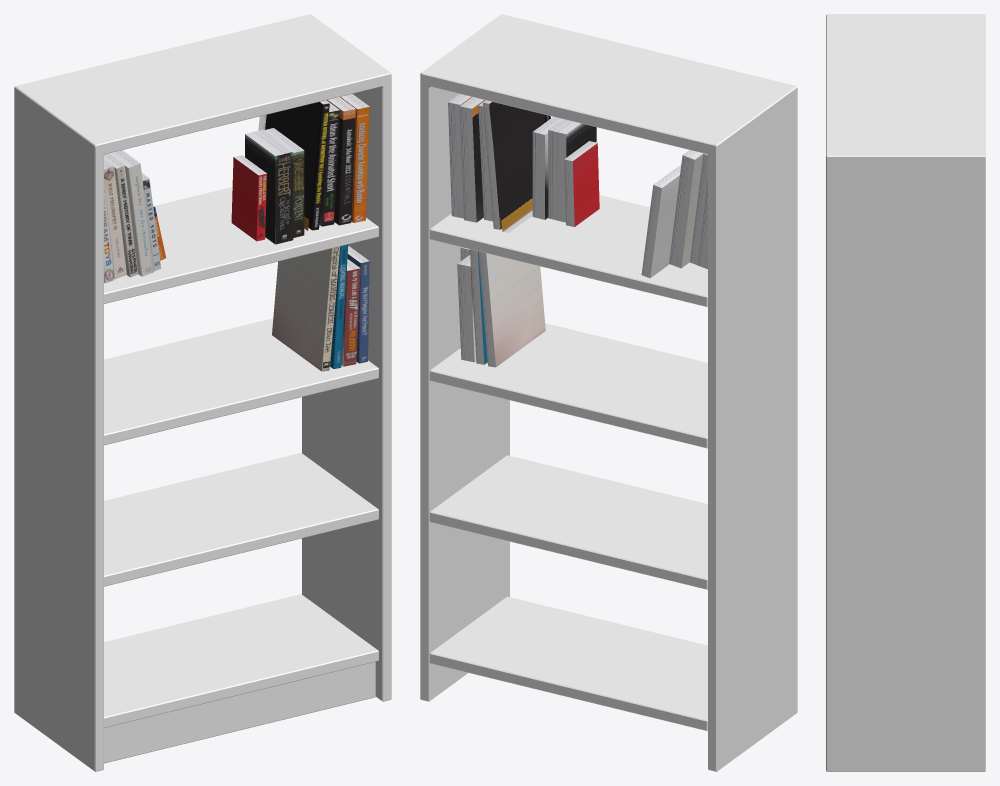
File: bookcase_low.glb
3 renders of one model, left to right at view 1: azimuth 30°, elevation 25°; view 2: azimuth 150°, elevation 25°; view 3: azimuth 270°, elevation 25°, orthographic.
Parts seen in each view (by area): view 1: WhitePaint_0008, WhitePaint_0007, WhitePaint_0006, Books_0008, Books_0011, Books_0013, Books_0015, Books_0017, Books_0010, Books_0018, Books_0016, Books_0007 (+7 smaller); view 2: WhitePaint_0008, WhitePaint_0007, Books_0008, Books_0013, Books_0002, Books_0015, Books_0011, Books_0010, Books_0017, Books_0012, Books_0018, Books_0007 (+4 smaller); view 3: WhitePaint_0008.
Part boxes in pixels (x1=…): WhitePaint_0008: x1=14, y1=14, x2=391, y2=771; WhitePaint_0007: x1=104, y1=187, x2=378, y2=727; WhitePaint_0006: x1=104, y1=662, x2=375, y2=763; Books_0008: x1=272, y1=246, x2=339, y2=371; Books_0011: x1=245, y1=129, x2=293, y2=244; Books_0013: x1=258, y1=102, x2=321, y2=231; Books_0015: x1=231, y1=155, x2=266, y2=241; Books_0017: x1=326, y1=97, x2=355, y2=225; Books_0010: x1=108, y1=150, x2=153, y2=276; Books_0018: x1=340, y1=94, x2=369, y2=222; Books_0016: x1=319, y1=100, x2=339, y2=226; Books_0007: x1=341, y1=259, x2=360, y2=366; WhitePaint_0008: x1=420, y1=14, x2=797, y2=771; WhitePaint_0007: x1=429, y1=195, x2=707, y2=730; Books_0008: x1=478, y1=251, x2=545, y2=367; Books_0013: x1=489, y1=102, x2=550, y2=232; Books_0002: x1=641, y1=164, x2=681, y2=278; Books_0015: x1=564, y1=141, x2=599, y2=226; Books_0011: x1=548, y1=119, x2=596, y2=222; Books_0010: x1=669, y1=150, x2=703, y2=268; Books_0017: x1=459, y1=97, x2=485, y2=222; Books_0012: x1=532, y1=117, x2=562, y2=219; Books_0018: x1=448, y1=94, x2=471, y2=218; Books_0007: x1=457, y1=255, x2=476, y2=362; WhitePaint_0008: x1=826, y1=14, x2=985, y2=771.
Size of the model in its own units: 0.5929 by 1.2 by 0.2807.
2 materials, 2 textured.
